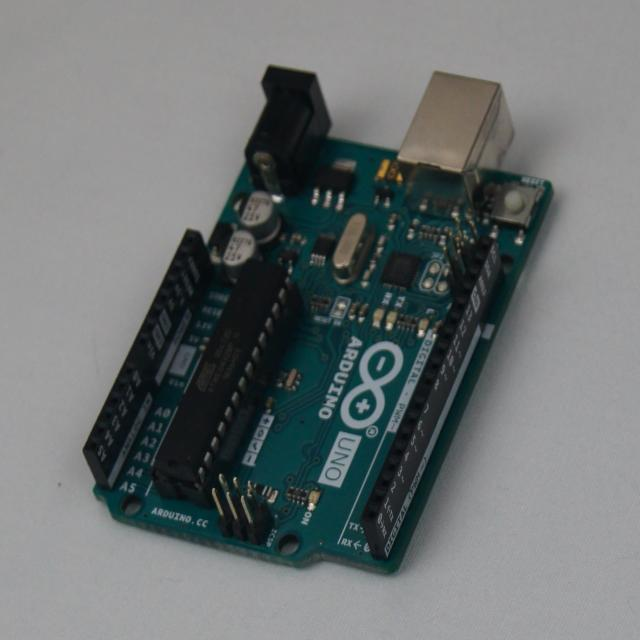Arduino Uno -Green-: (84, 67, 550, 573)
